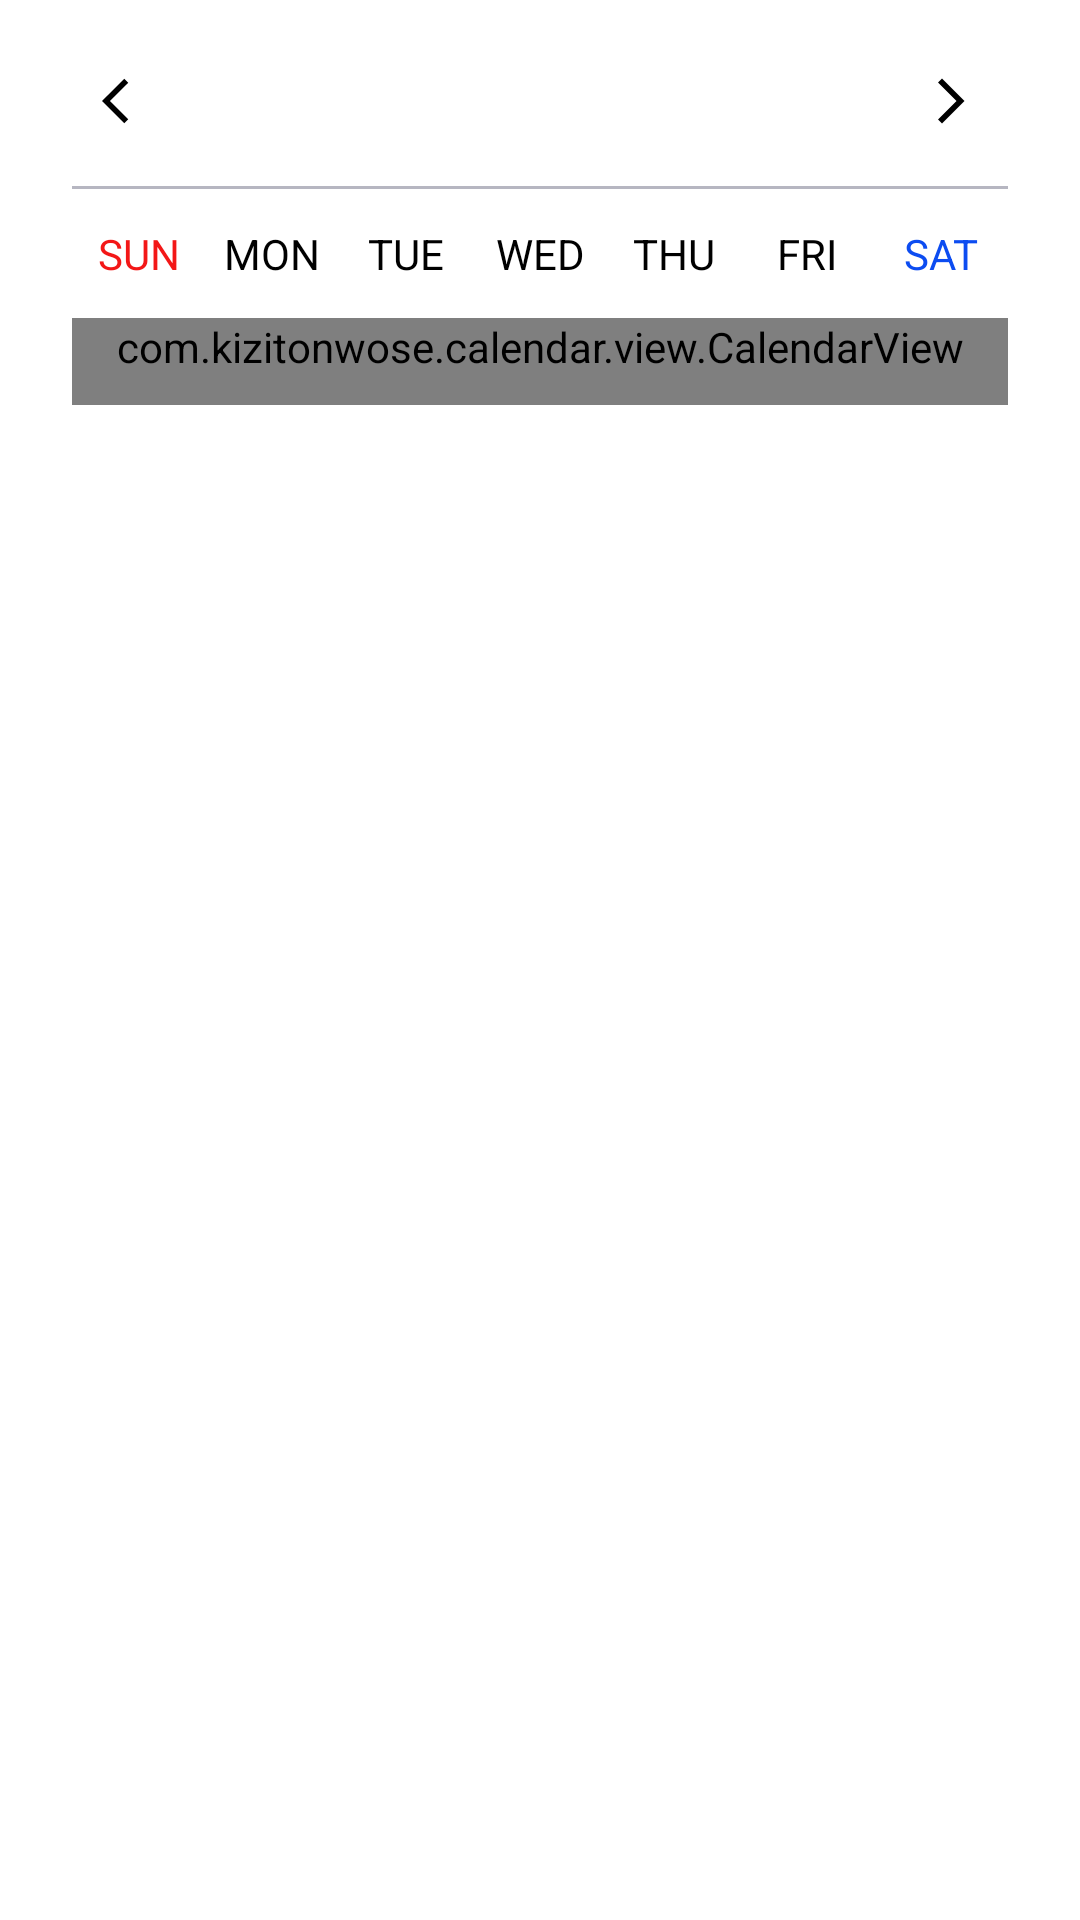

Point at icon controls on the screen. Image size 1080px x 1920px, points as (x=x, y=y).
arrow left: (x=115, y=101)
arrow right: (x=951, y=101)
